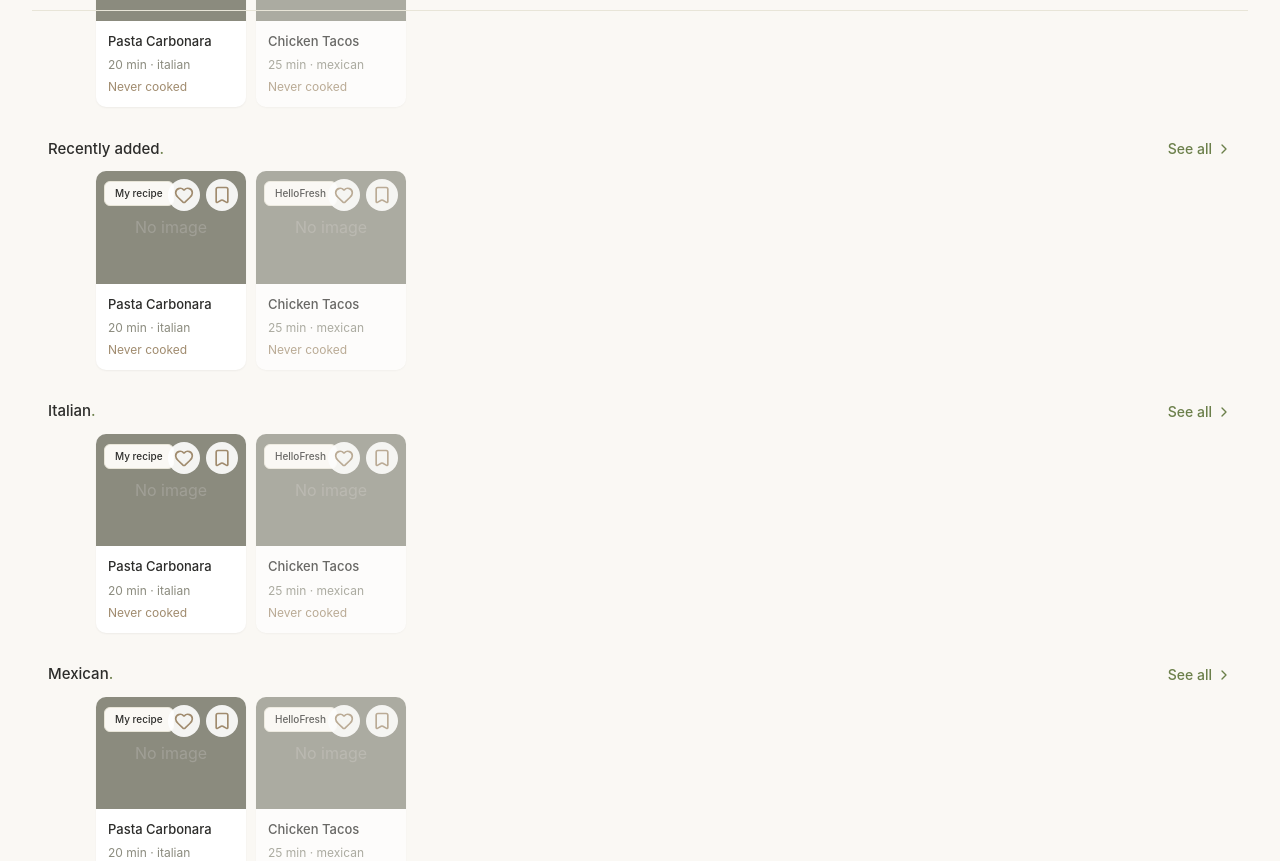
it: Recipes Page › see all functionality › applies tag filter when "See all" clicked on cuisine section
(page scrolled)
Click the 2nd button "See all": (1200, 412) 1168,402 -> 1232,422
(page scrolled)
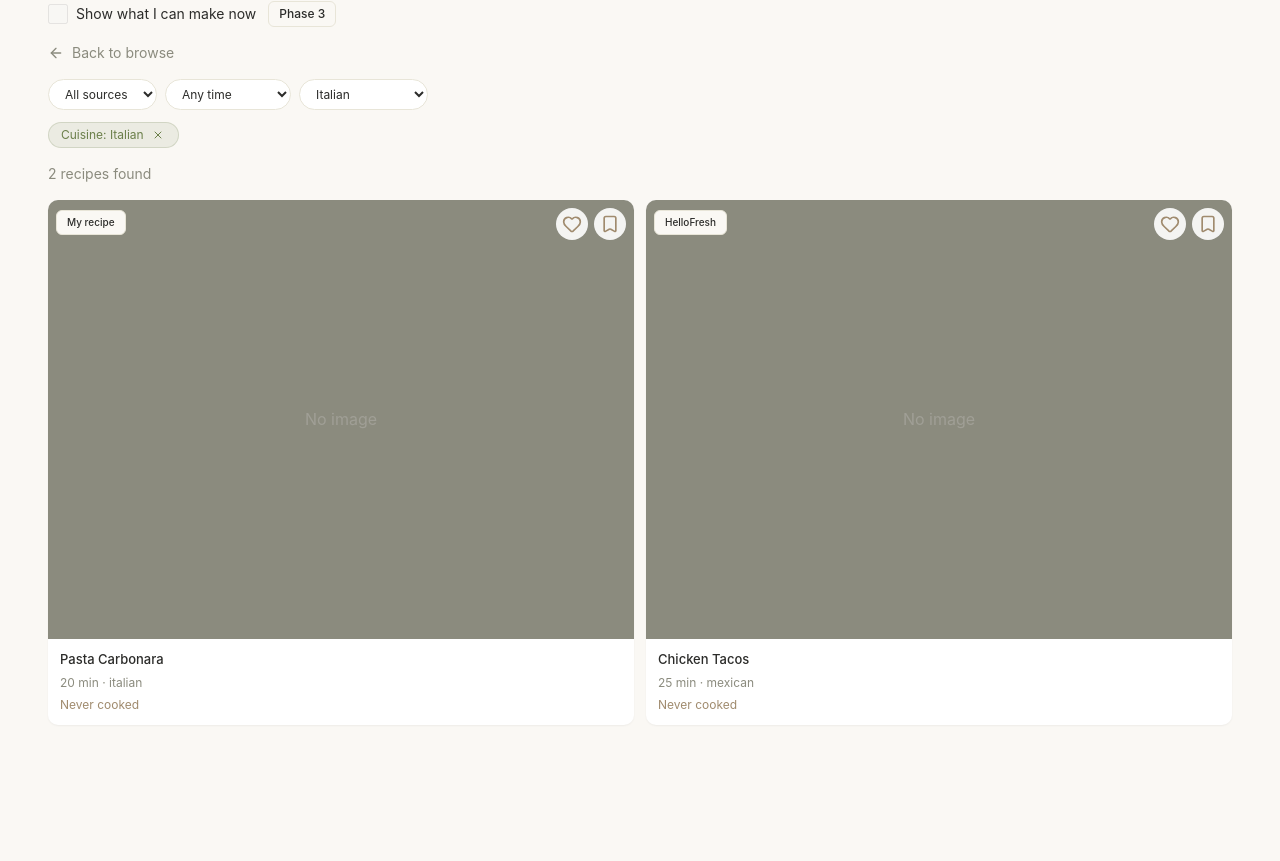
Result: the text "Cuisine: Italian" is shown at 61,126 -> 144,142
